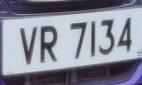1: (87, 18, 101, 62)
3: (98, 16, 117, 60)
4: (116, 12, 134, 58)
7: (69, 18, 89, 65)
R: (39, 21, 61, 68)
V: (18, 23, 40, 69)
